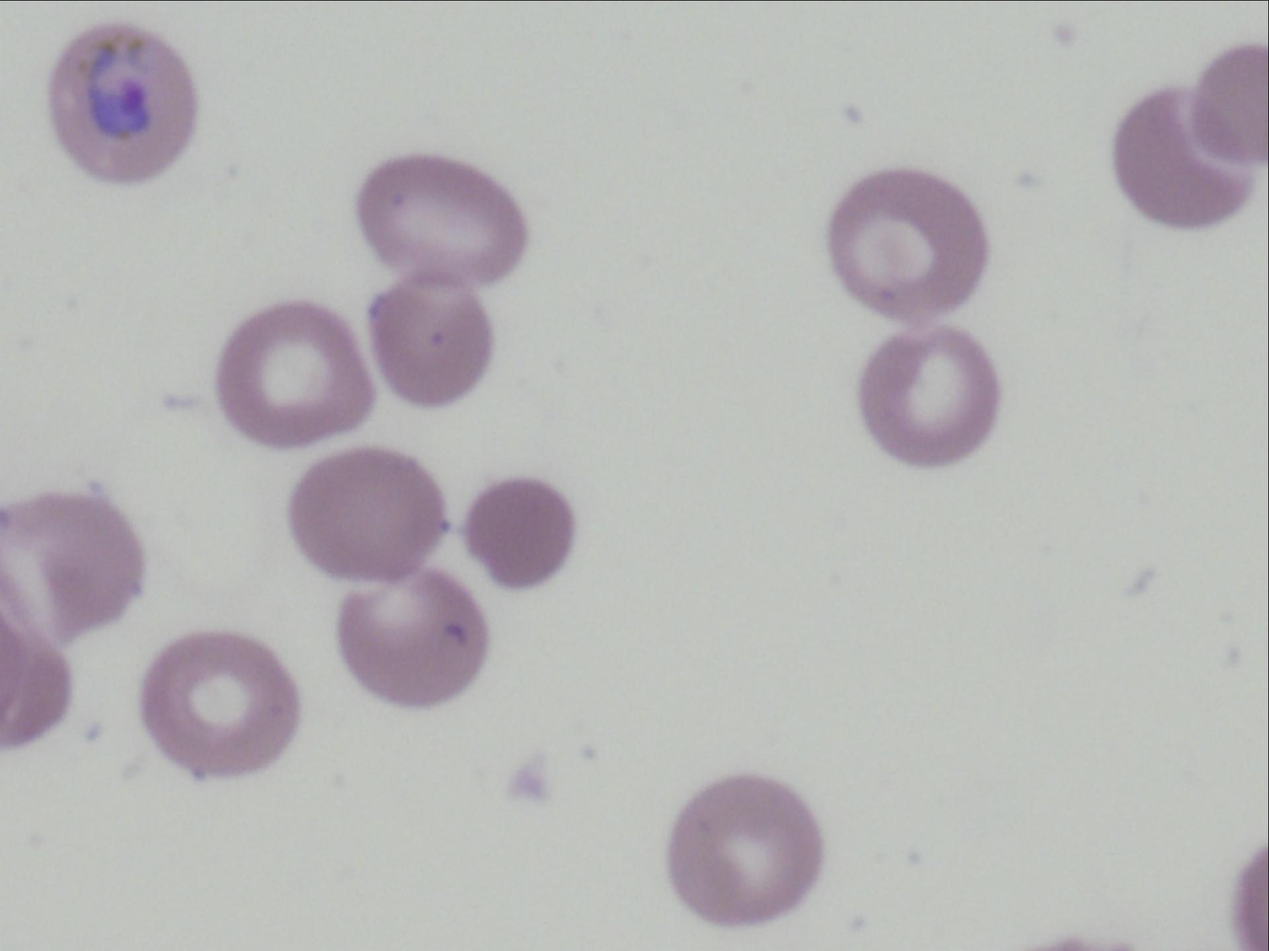Infected: (44, 23, 204, 183)
Uninfected: (670, 770, 828, 924), (143, 631, 300, 784), (828, 164, 988, 314), (359, 146, 526, 287), (217, 303, 377, 446), (0, 492, 144, 648), (335, 565, 485, 708), (858, 318, 996, 470), (1113, 82, 1247, 229), (289, 450, 446, 575), (368, 274, 485, 403), (463, 474, 577, 581)
